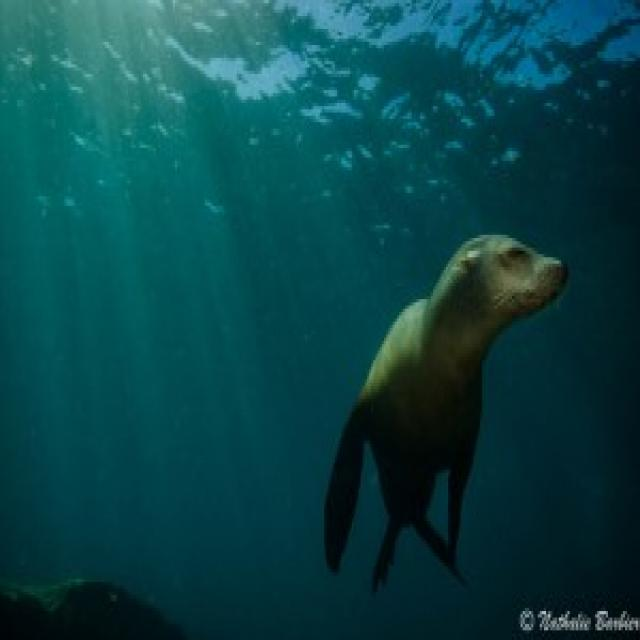Seal: (305, 221, 586, 598)
